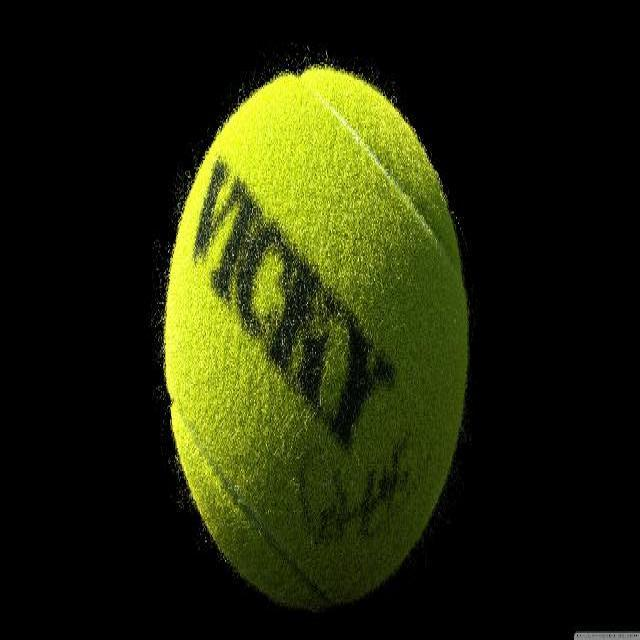tennis-ball: (163, 67, 468, 609)
